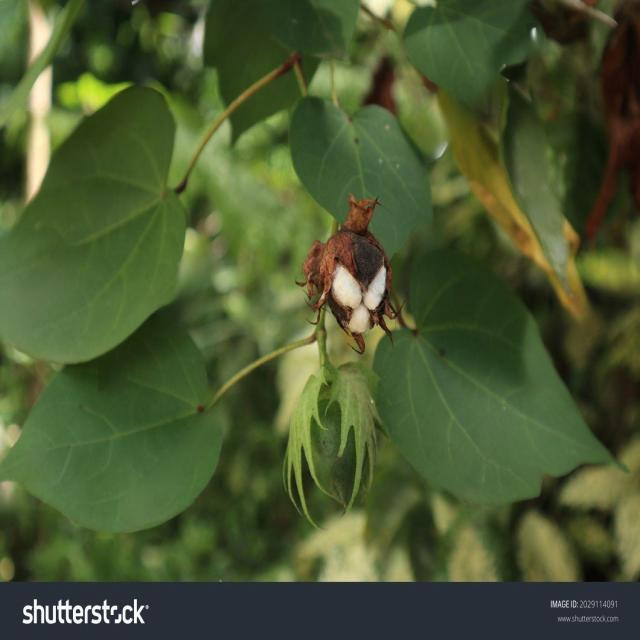Early_blight: (311, 216, 404, 351)
